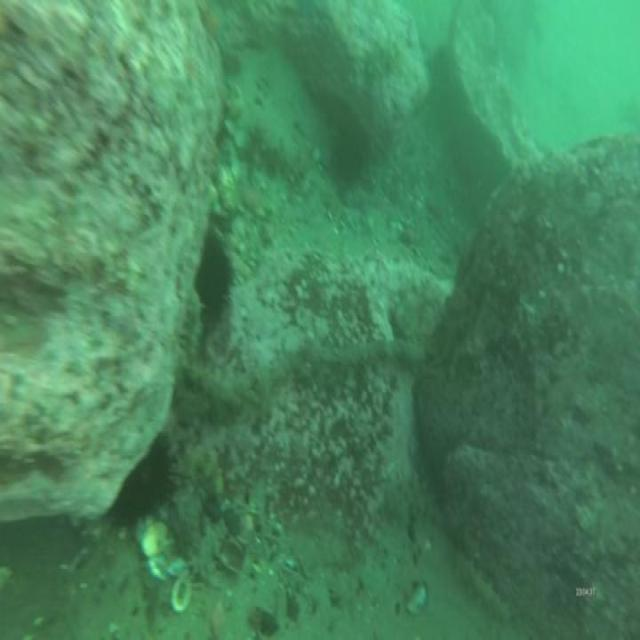echinus: (113, 436, 171, 523), (195, 235, 231, 313), (334, 124, 366, 186)
holothurian: (458, 555, 509, 624)
